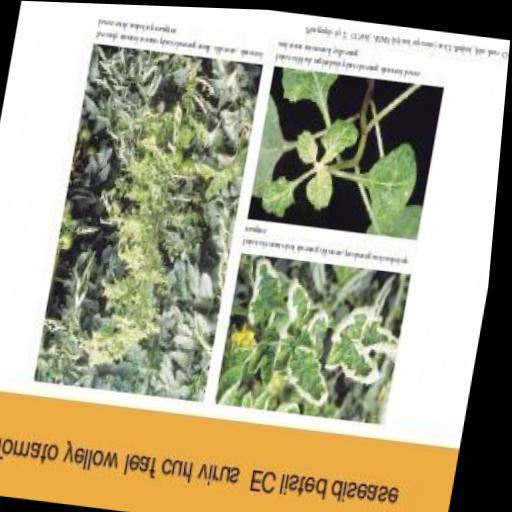Yellow Leaf Curl Virus: (330, 295, 407, 385), (245, 256, 297, 332), (289, 341, 346, 409), (282, 277, 325, 335)
